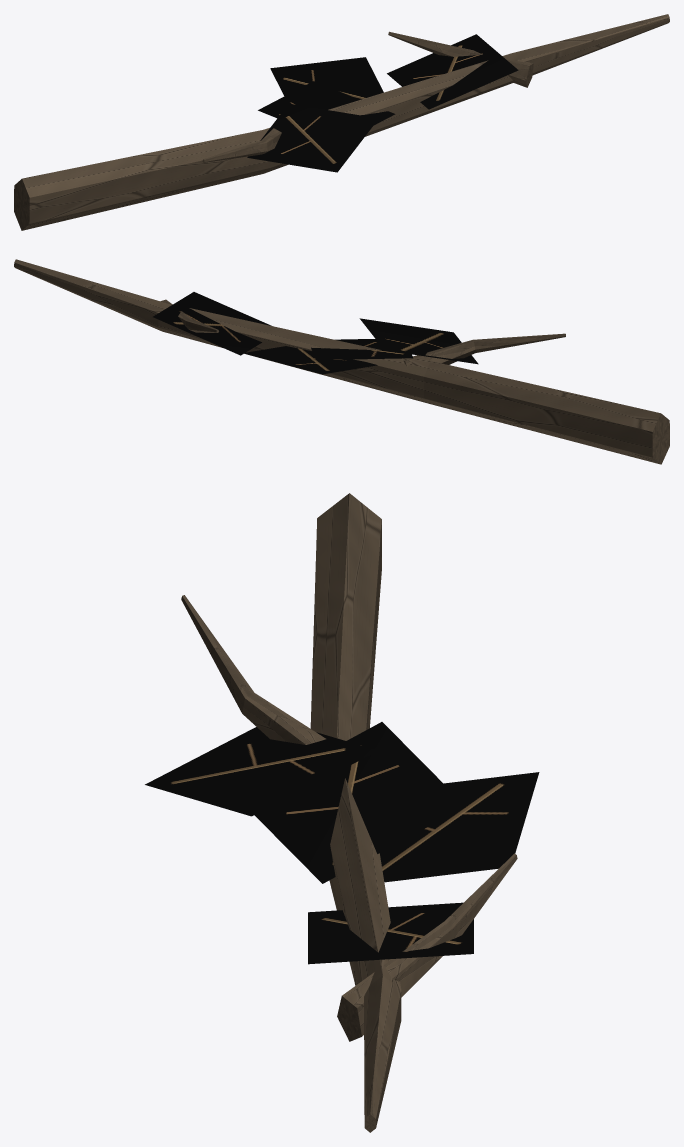
Rendered from Furn_Branch_Fallen.fbx.
3 renders of one model, top to bottom at view 1: azimuth 30°, elevation 25°; view 2: azimuth 150°, elevation 25°; view 3: azimuth 270°, elevation 25°, orthographic. The views are drawn at different scales.
Visible parts, largest first — view 1: Furn_Branch_Fallen; view 2: Furn_Branch_Fallen; view 3: Furn_Branch_Fallen.
Boxes of the visible parts, bbox=[...] form: Furn_Branch_Fallen: bbox=[14, 14, 669, 230]; Furn_Branch_Fallen: bbox=[14, 259, 669, 464]; Furn_Branch_Fallen: bbox=[145, 493, 539, 1132].
Bounding box in the file's own units: 1.5 × 0.15 × 0.4.
